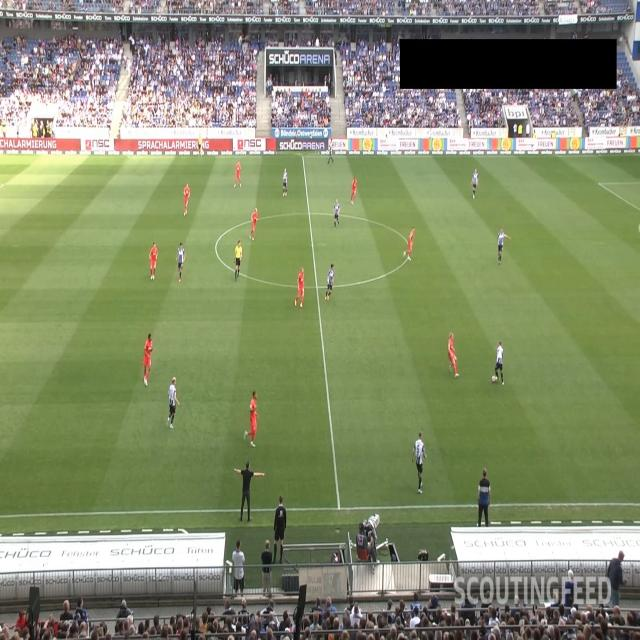ball: (491, 374, 496, 382)
